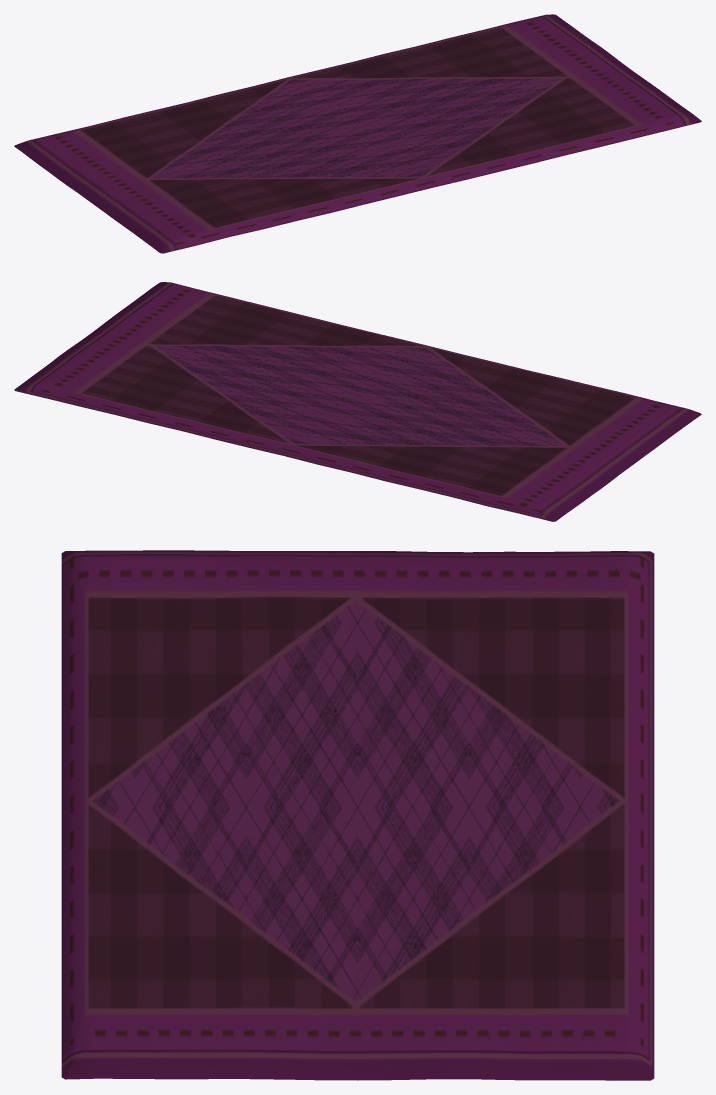
Rendered from MSG_Lr_carpet_2.FBX.
3 views of the same model, one above another, from view 1: azimuth 30°, elevation 25°; view 2: azimuth 150°, elevation 25°; view 3: azimuth 270°, elevation 25° (orthographic). The views are drawn at different scales.
Visible parts, largest first — view 1: Box078; view 2: Box078; view 3: Box078.
Part boxes in pixels (x1,y1,x2,y2): Box078: (14, 14, 701, 253); Box078: (14, 282, 701, 521); Box078: (61, 550, 654, 1080).
Size of the model in its own units: 936 by 11.92 by 444.
